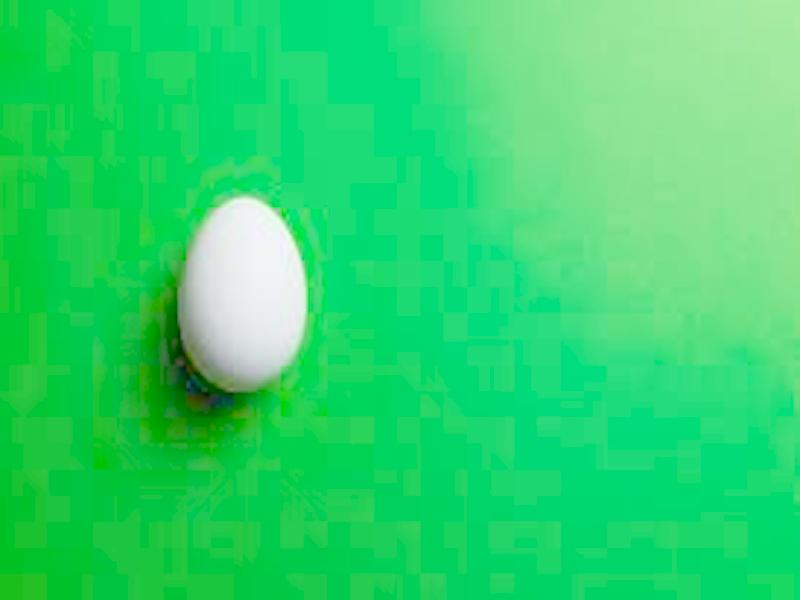Eggs: (178, 196, 304, 391)
